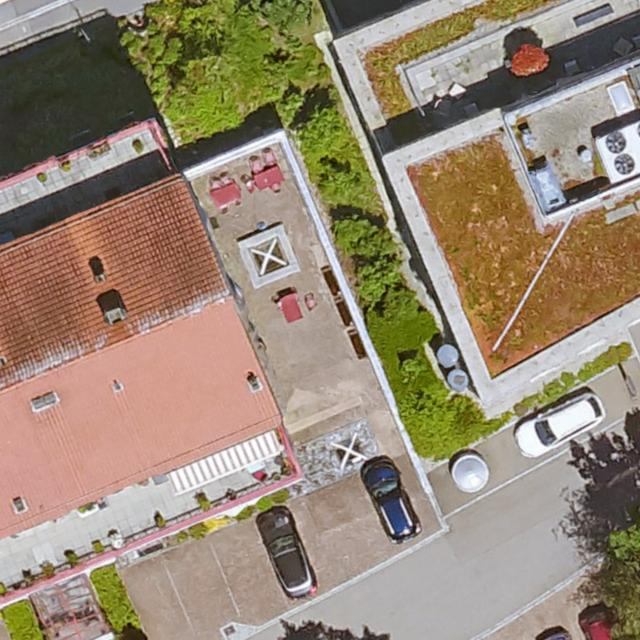tree: (143, 0, 268, 129), (334, 218, 413, 295), (610, 517, 640, 621)
